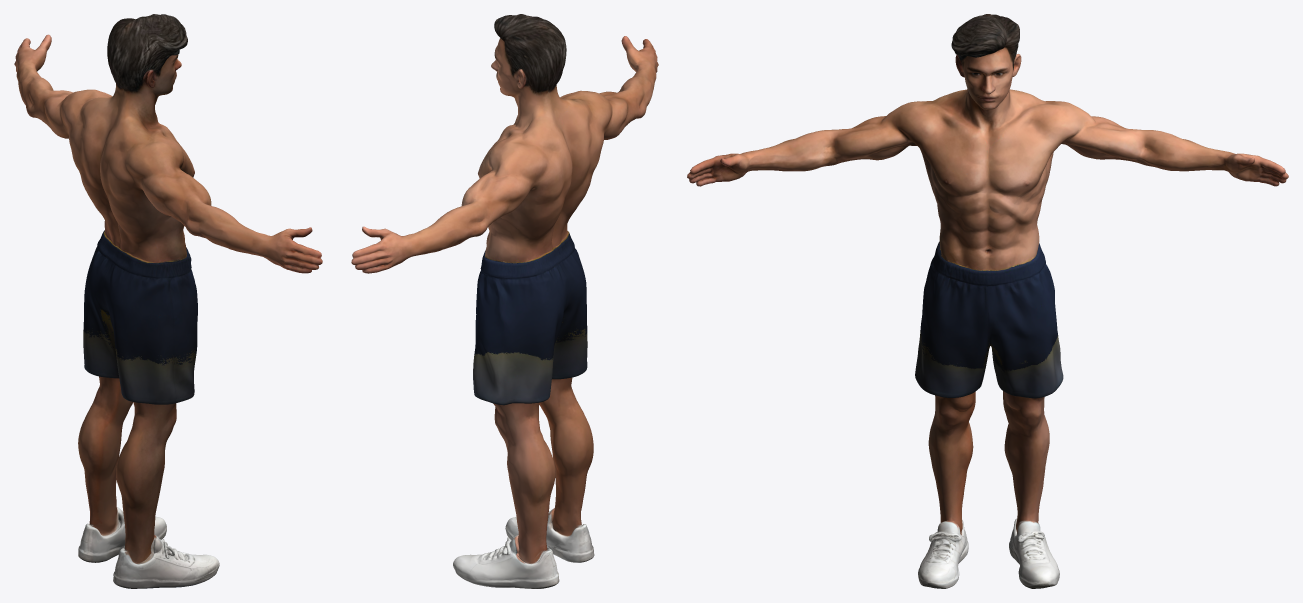
The model's file is man.glb.
3 views of the same model, side by side, from view 1: azimuth 30°, elevation 25°; view 2: azimuth 150°, elevation 25°; view 3: azimuth 270°, elevation 25° (orthographic).
Parts seen in each view (by area): view 1: tripo_node_35411f97-d0b5-4e2c-a2aa-50782bfa8404; view 2: tripo_node_35411f97-d0b5-4e2c-a2aa-50782bfa8404; view 3: tripo_node_35411f97-d0b5-4e2c-a2aa-50782bfa8404.
Part boxes in pixels (<box>): tripo_node_35411f97-d0b5-4e2c-a2aa-50782bfa8404: <box>14,14,322,588</box>; tripo_node_35411f97-d0b5-4e2c-a2aa-50782bfa8404: <box>351,14,658,588</box>; tripo_node_35411f97-d0b5-4e2c-a2aa-50782bfa8404: <box>687,14,1288,588</box>.
Size of the model in its own units: 0.1886 by 1 by 0.9859.
1 material, 1 textured.
